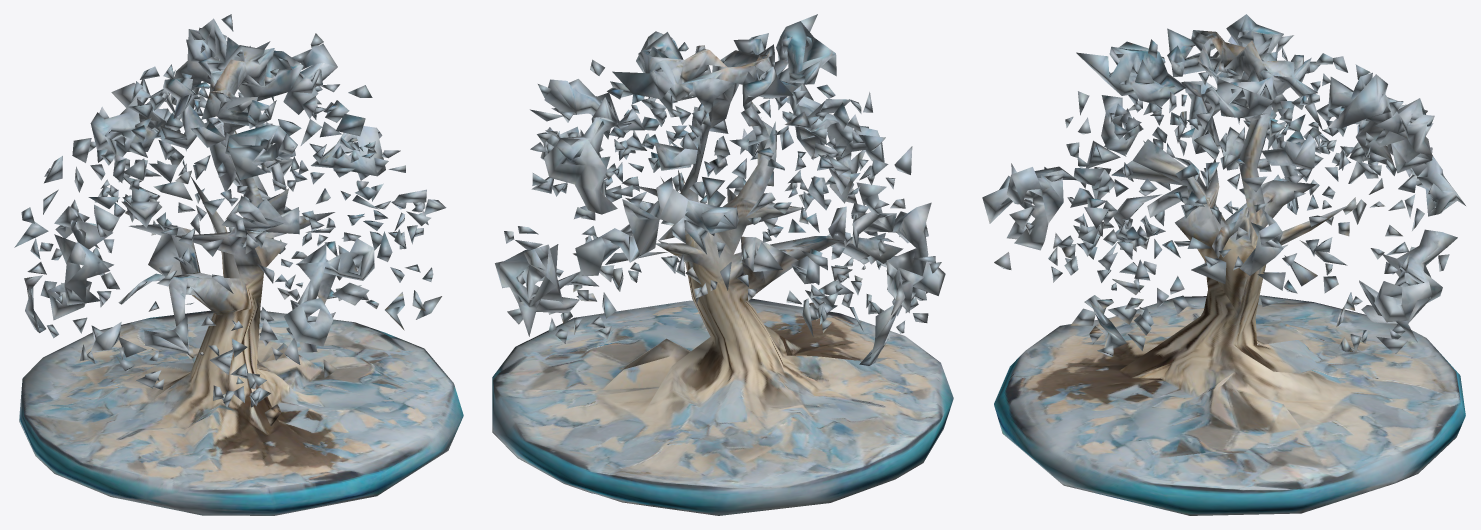
Rendered from testTree.glb.
The picture shows the model from 3 angles, left to right: view 1: azimuth 30°, elevation 25°; view 2: azimuth 150°, elevation 25°; view 3: azimuth 270°, elevation 25°; orthographic projection. The views are drawn at different scales.
Parts seen in each view (by area): view 1: Mesh_0; view 2: Mesh_0; view 3: Mesh_0.
Part boxes in pixels (left/top/right/bottom): Mesh_0: left=14, top=14, right=463, bottom=515; Mesh_0: left=492, top=14, right=953, bottom=515; Mesh_0: left=982, top=14, right=1465, bottom=515.
Size of the model in its own units: 1.16 by 1 by 1.15.
Materials: 1 (1 with a texture image).
